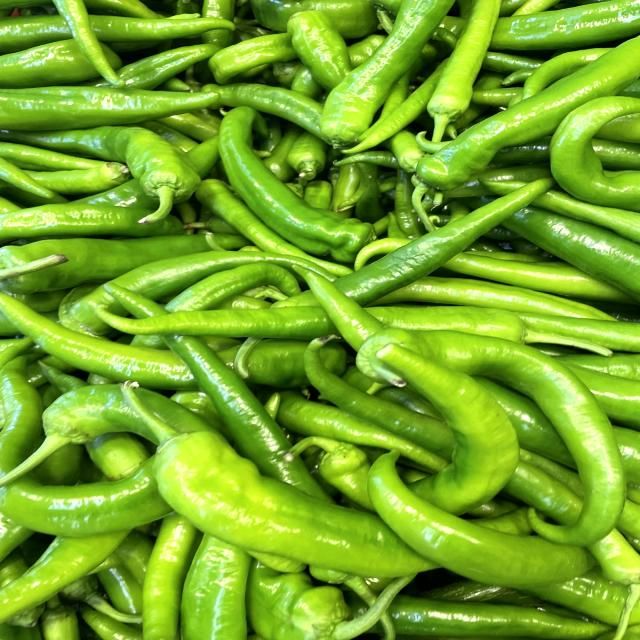green pepper: (218, 105, 382, 266), (0, 81, 219, 137)
